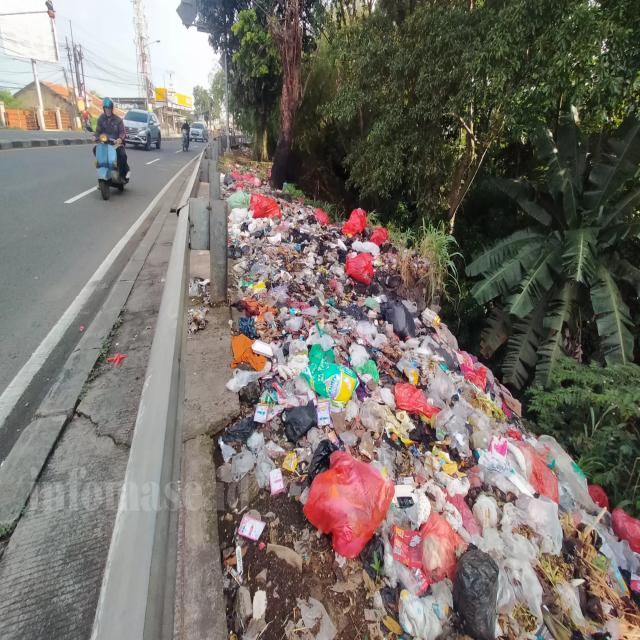trash: (230, 171, 638, 640)
